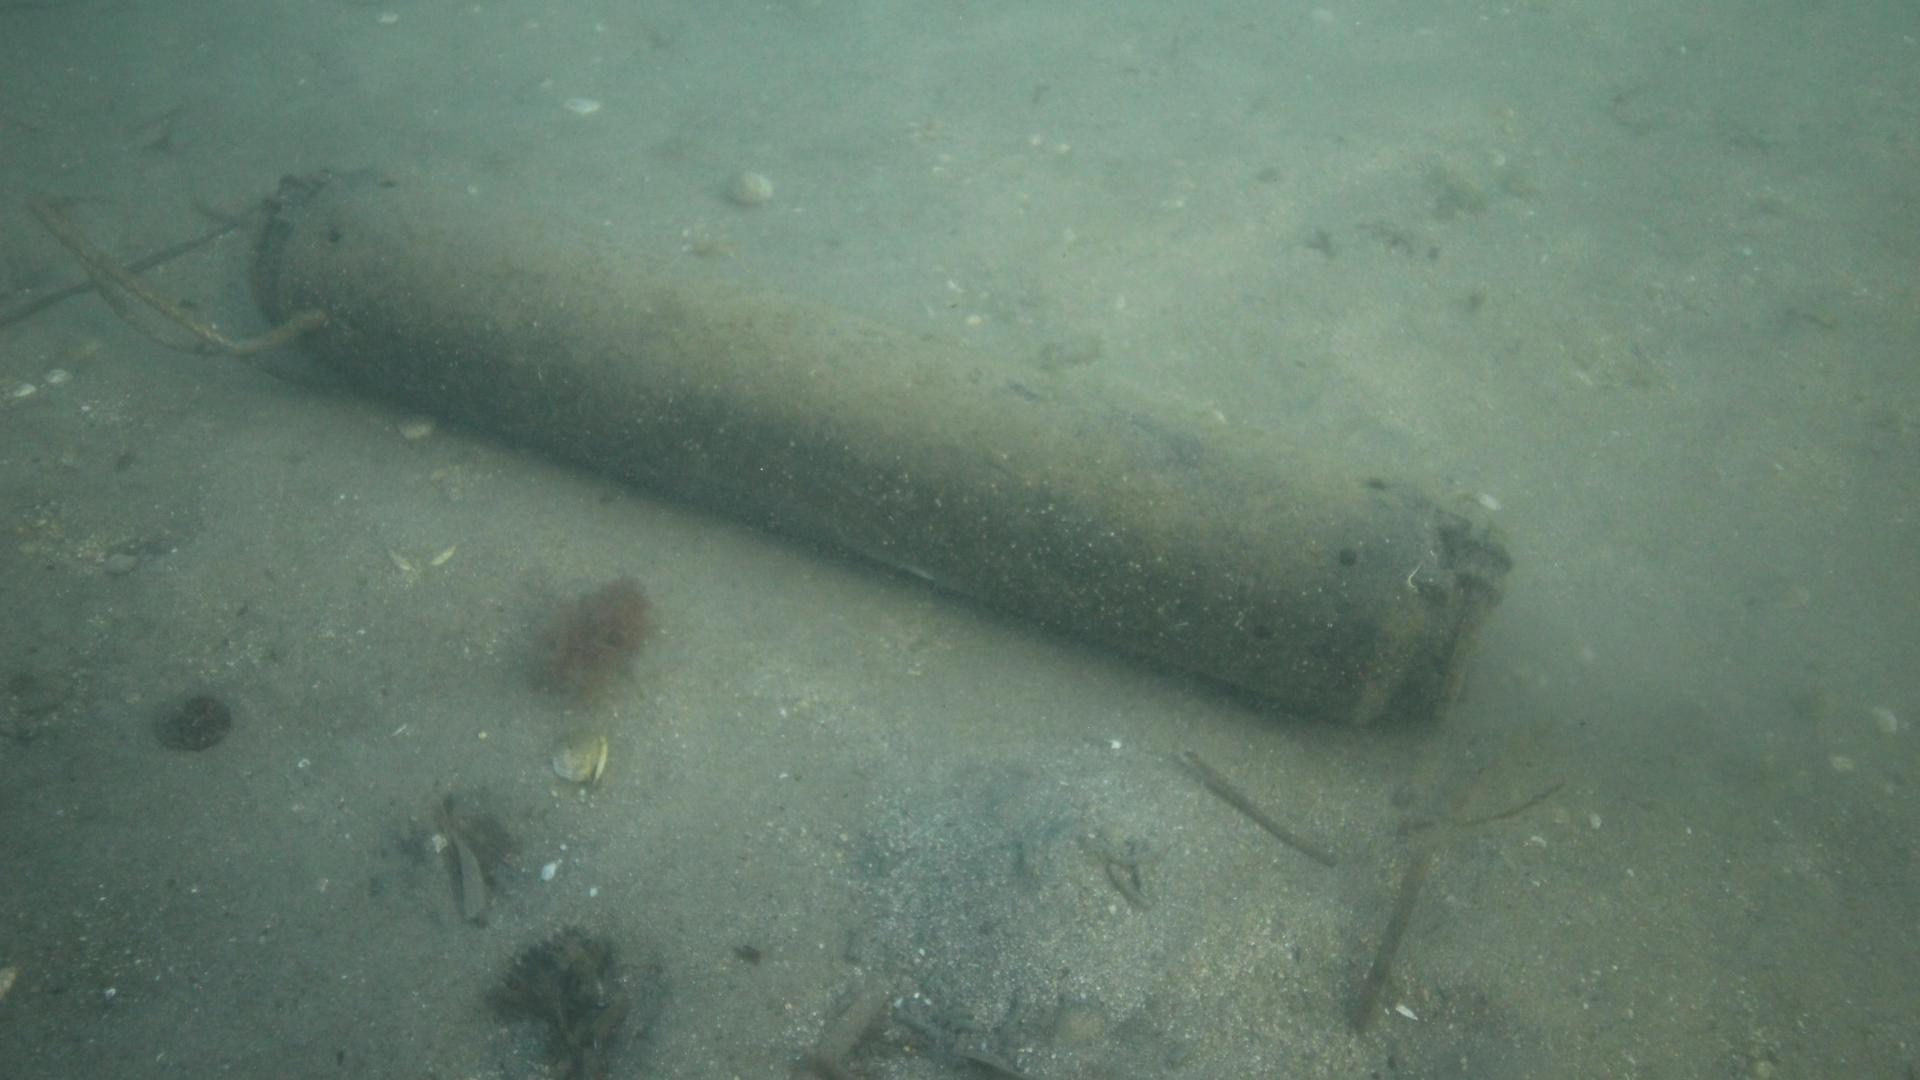eel fish trap: (251, 166, 1519, 727)
rope: (25, 187, 327, 357)
